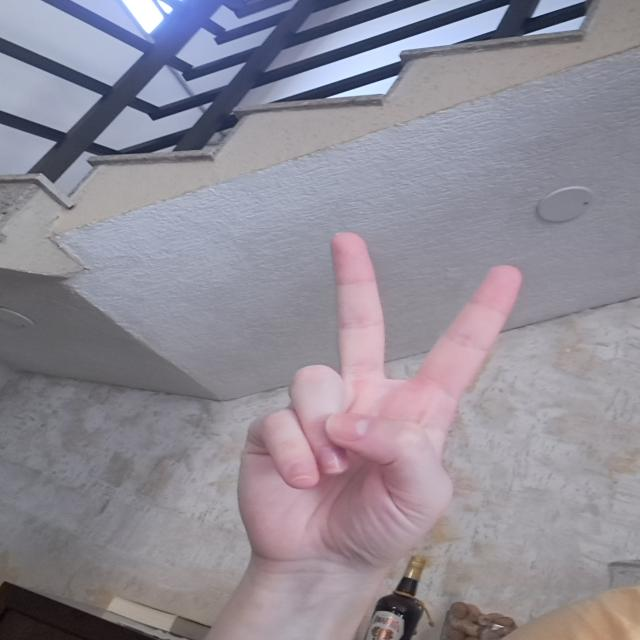V: (220, 222, 533, 580)
